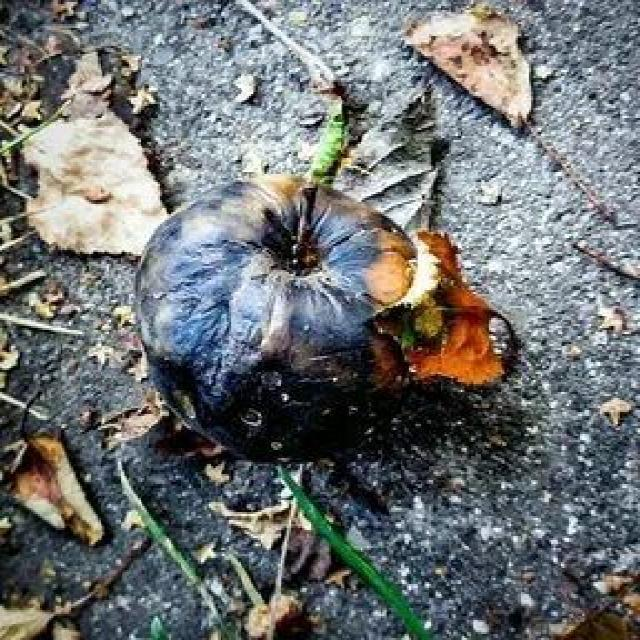Rotten: (115, 153, 415, 470)
